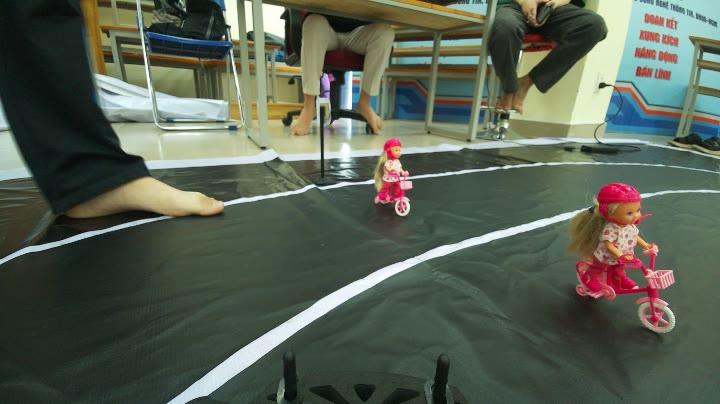pedestrian: (563, 169, 687, 340), (363, 130, 415, 214)
